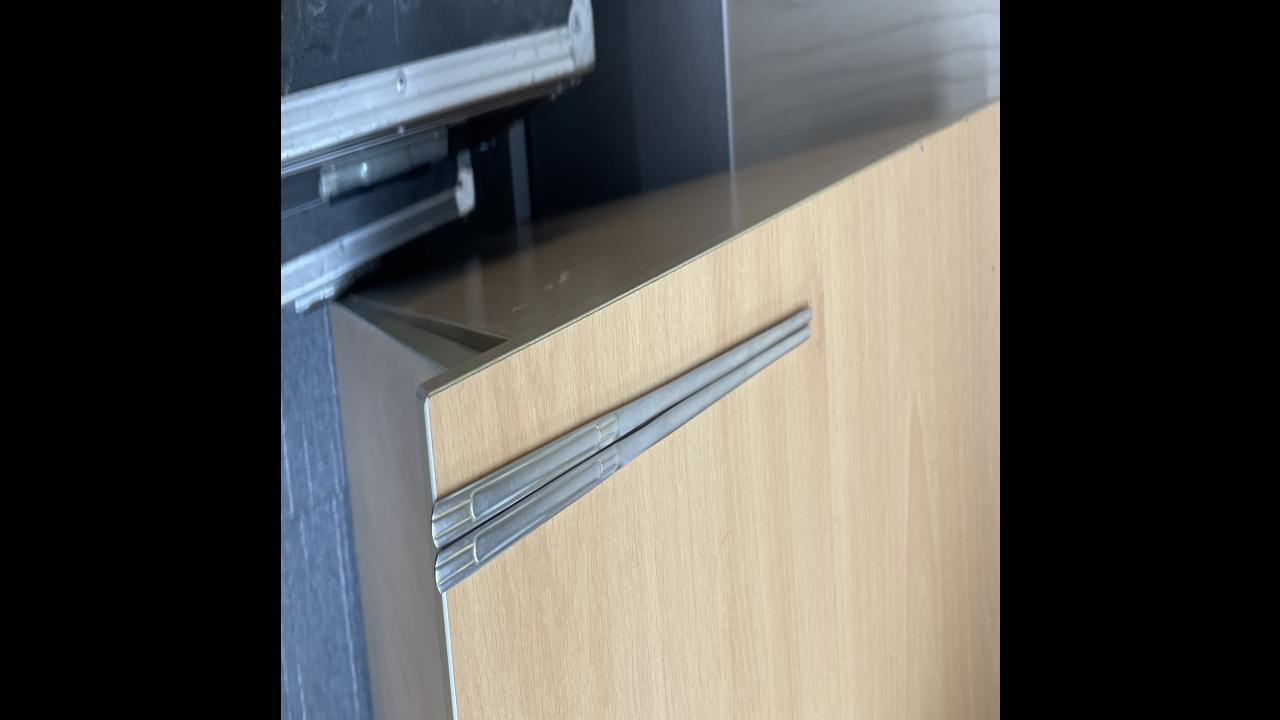chopstick: (434, 308, 813, 596)
